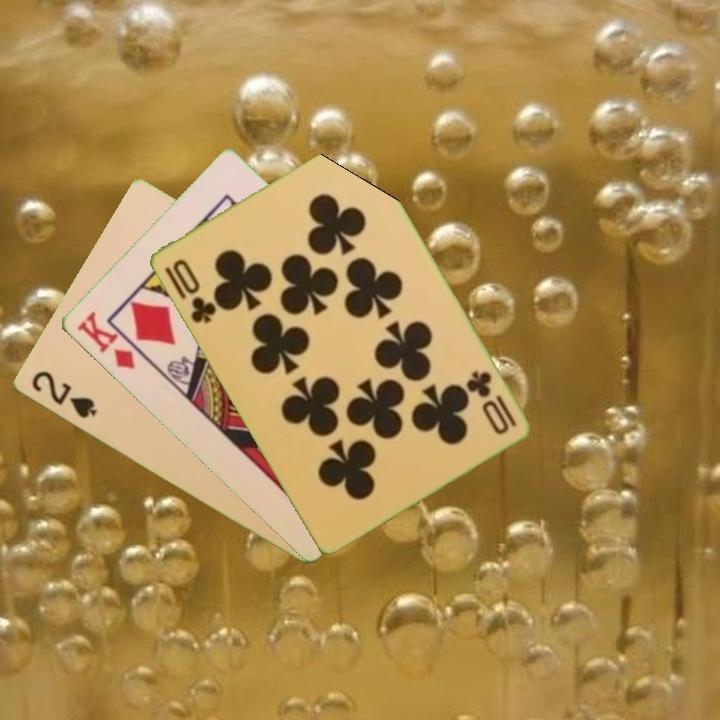10c: (462, 367, 519, 438), (168, 255, 219, 327)
2s: (27, 367, 99, 422)
Kd: (72, 307, 149, 373)
